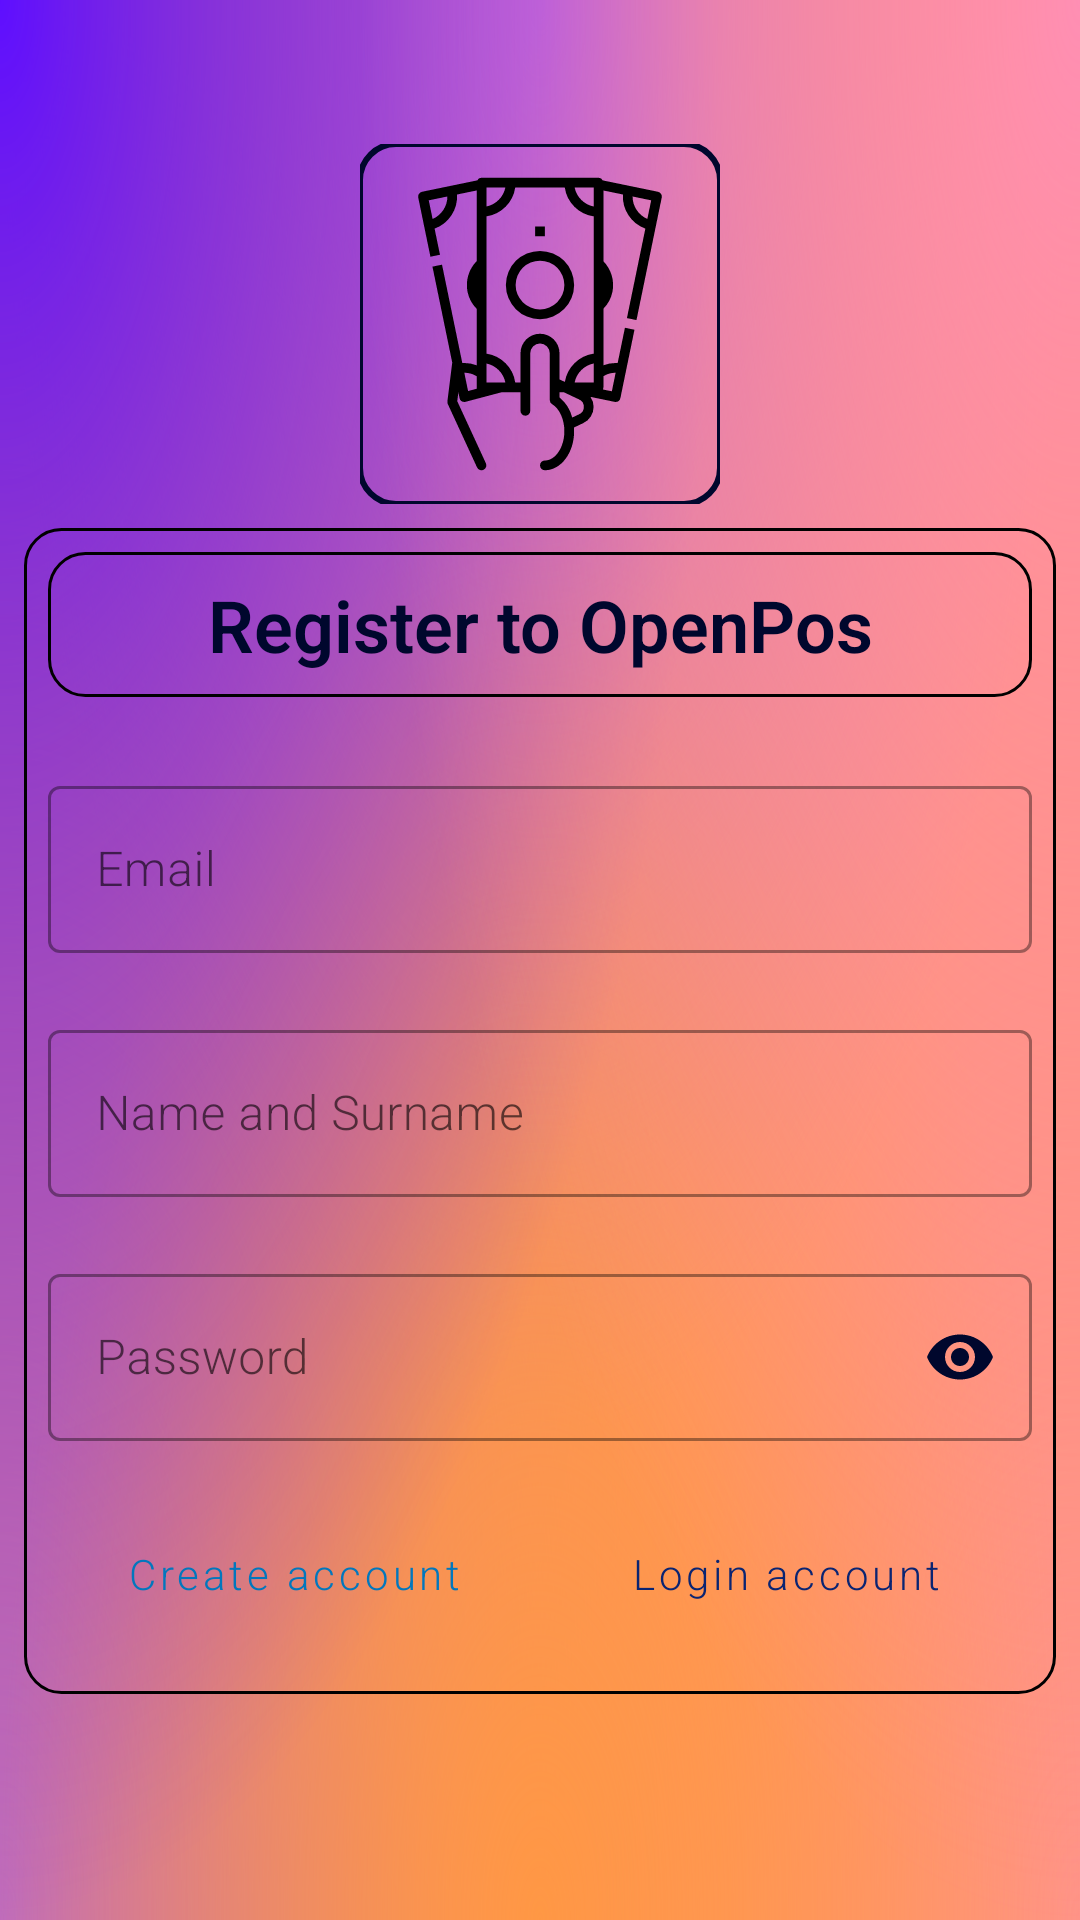

Icon click points for this 1080x1920 phone screenshot, format (x=x, y=y):
cash: (x=540, y=324)
